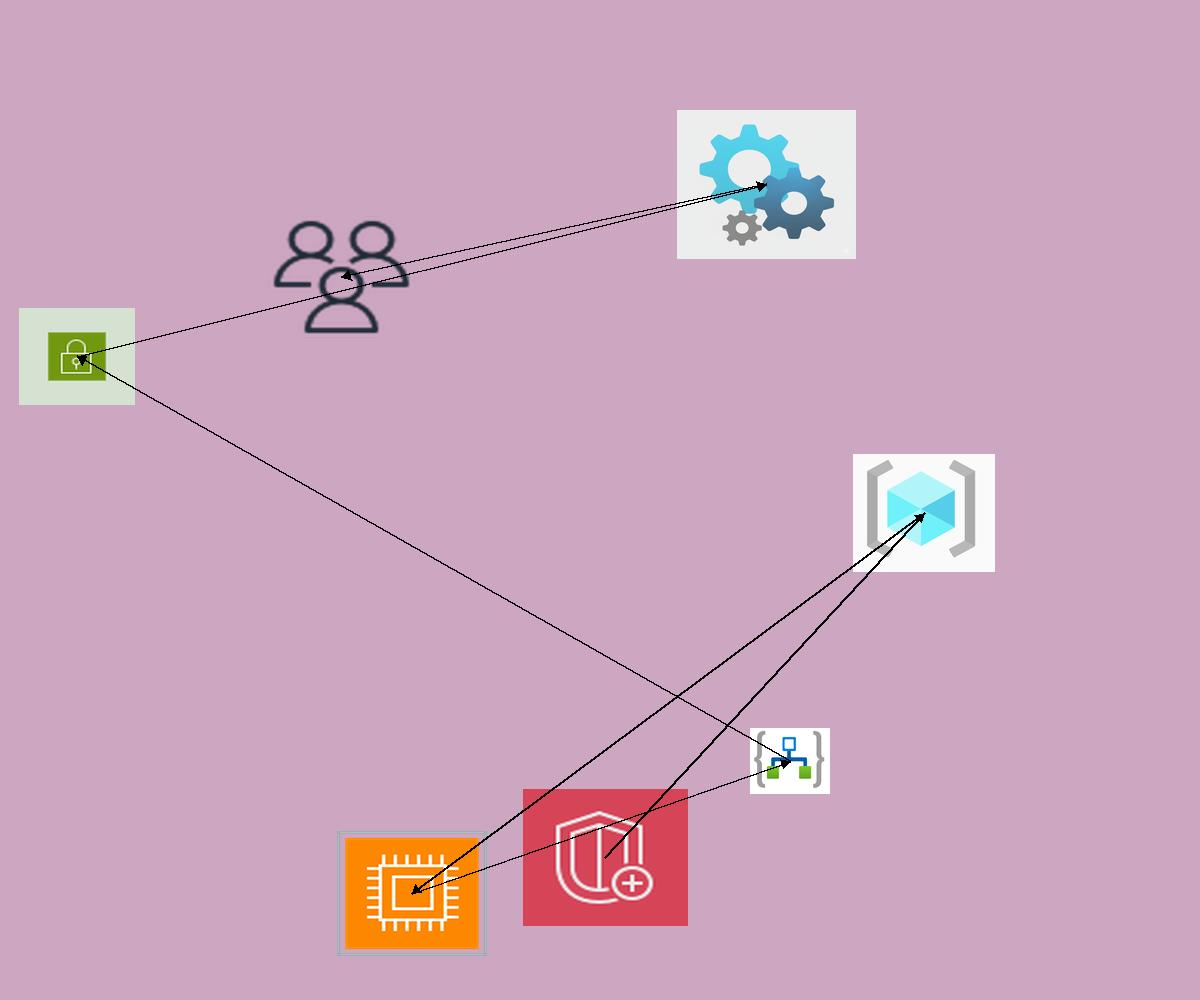AWS-Category_Compute: (337, 831, 487, 956)
AWS-Public-subnet: (19, 308, 135, 405)
AWS-Res_Users: (268, 216, 415, 338)
AWS-Shield: (523, 789, 688, 926)
Azure_api: (677, 110, 856, 259)
Azure_integration-204-Logic-Apps: (750, 728, 830, 794)
Azure_resource_group: (853, 454, 995, 572)
